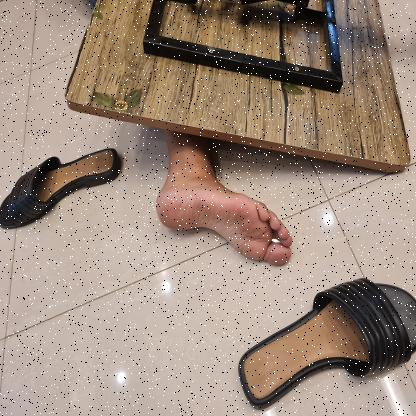leg: (147, 125, 299, 273)
